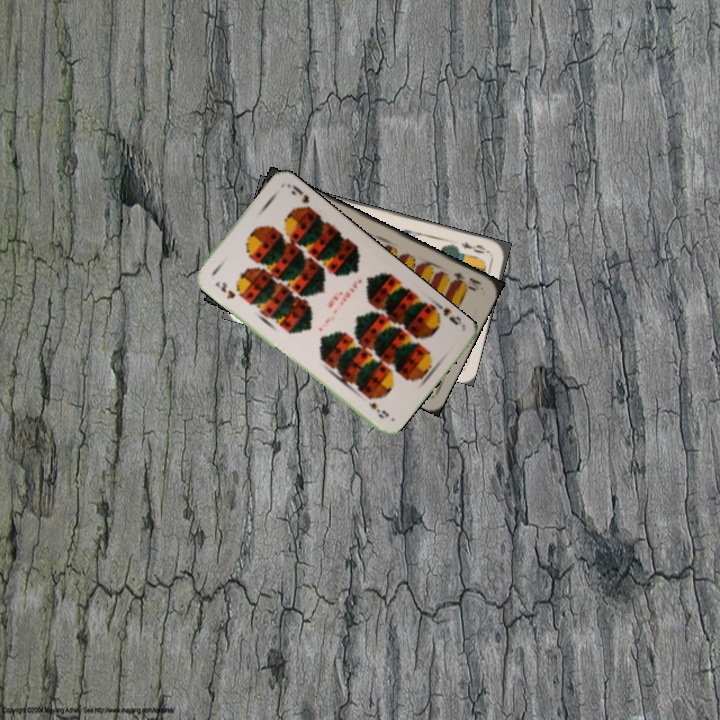E10: (449, 268, 484, 294)
EO: (457, 237, 492, 256)
S9: (428, 298, 464, 328), (211, 277, 238, 301)
